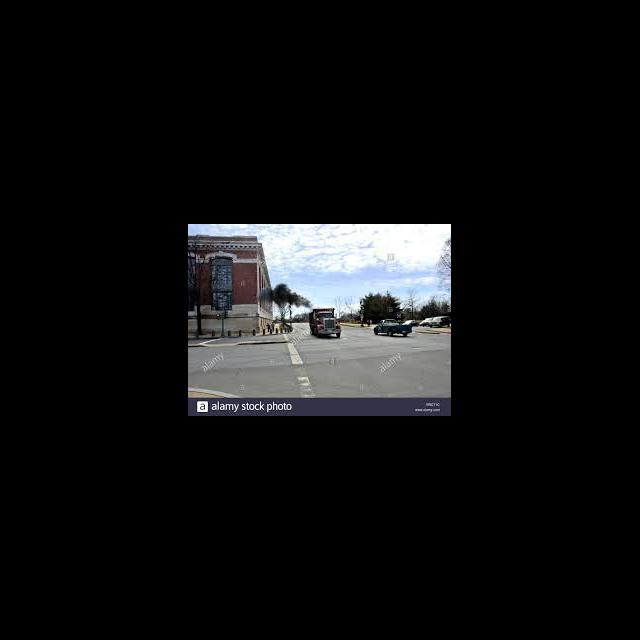Smoke: (266, 284, 312, 310)
